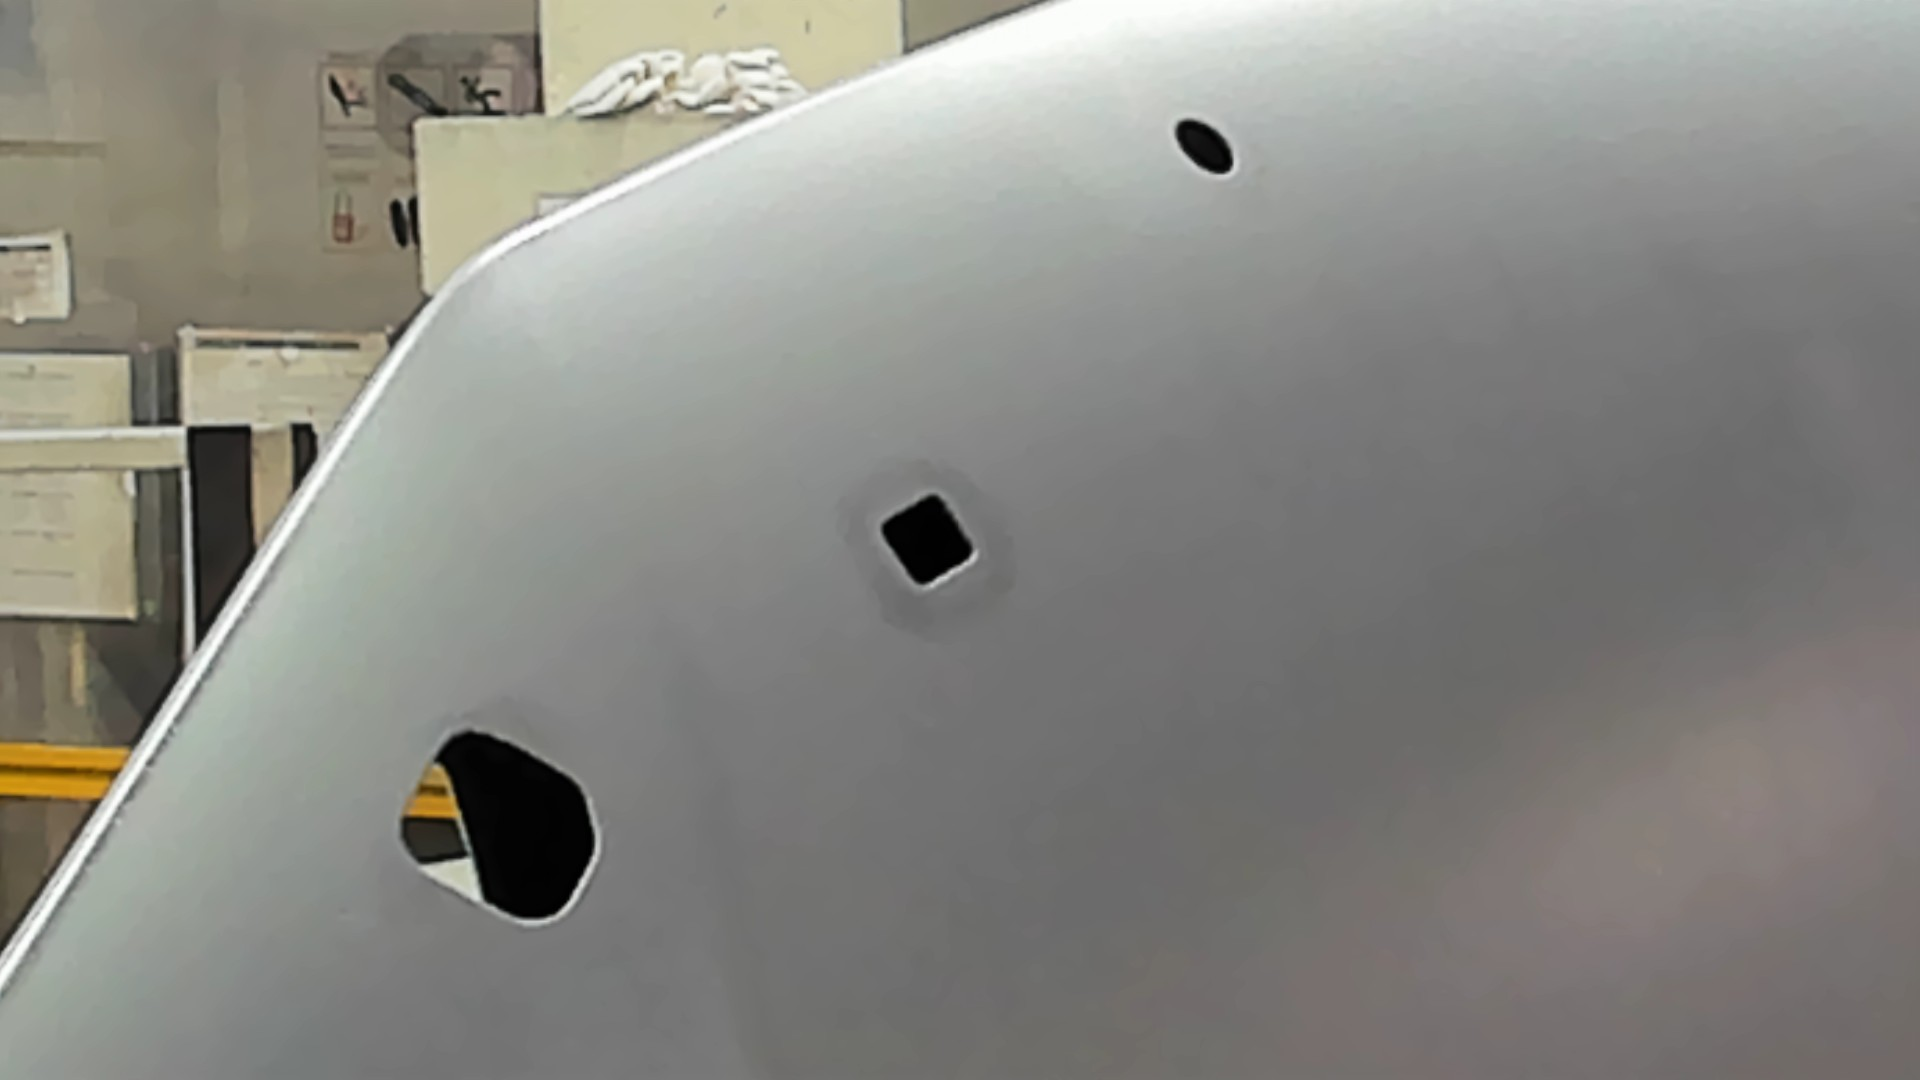capo: (985, 185, 1920, 1080)
chico: (1166, 109, 1241, 183)
grande: (392, 719, 607, 940)
mediano: (873, 488, 984, 596)
